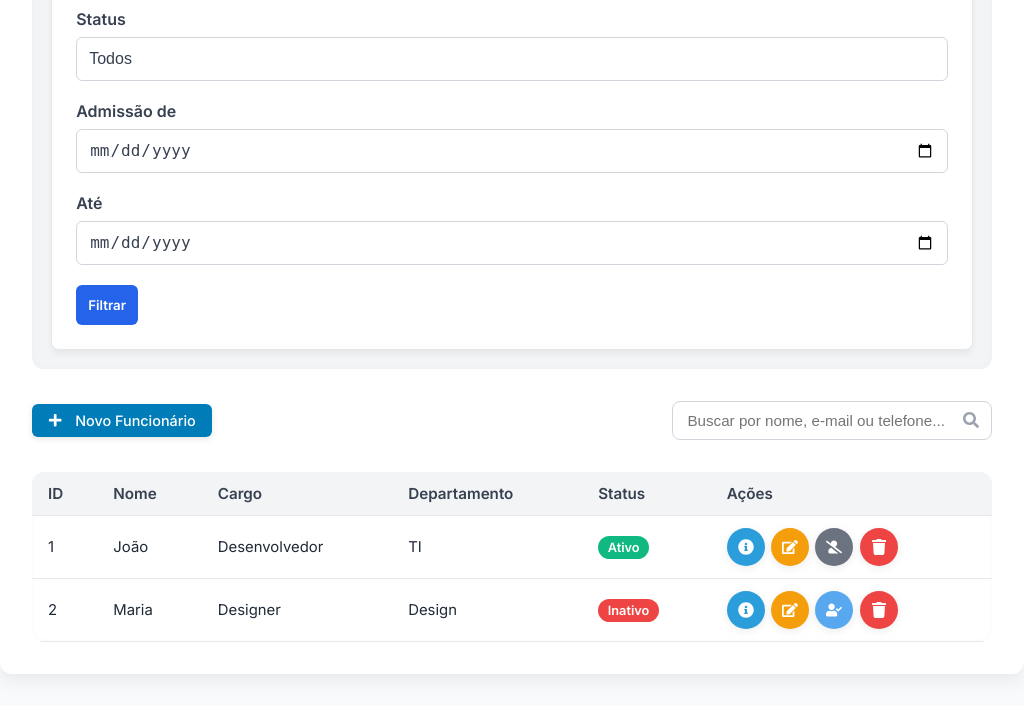
Test: EmployeePage › filtra funcionários pelo campo search
(page scrolled)
Type "Maria" into the field with placeholder "Buscar por nome, e-mail ou telefone..." at (832, 420), box [672,401,992,440]
(page scrolled)
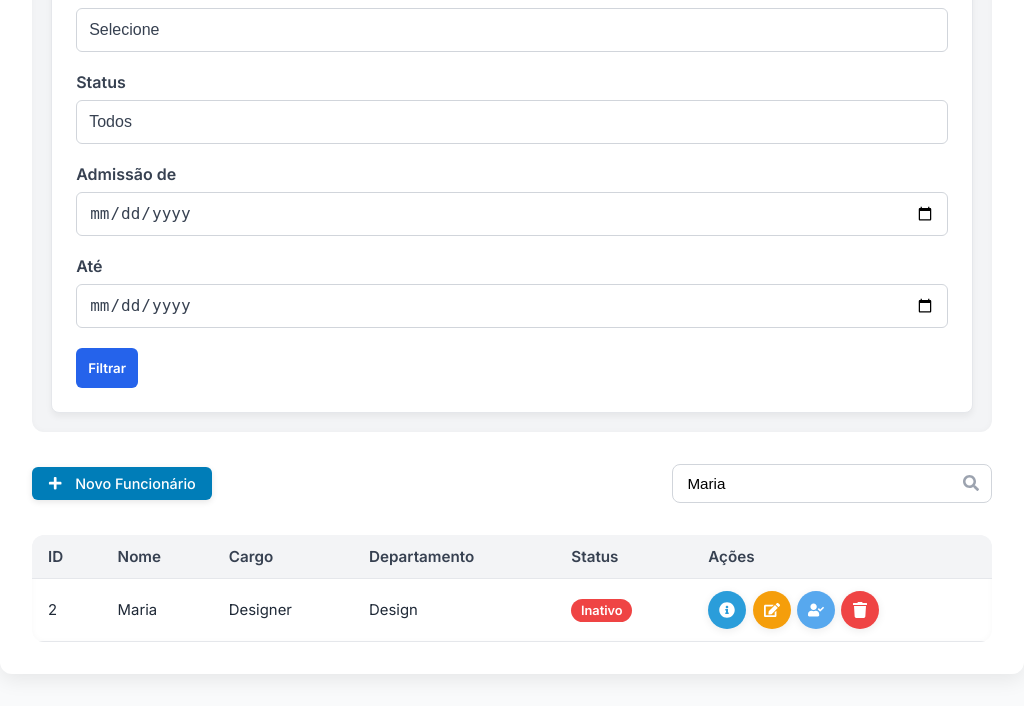
Check: the text "Maria" is shown, box [102,578,213,642]
Check: the text "João" is gone
